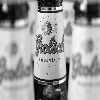beer: (34, 2, 70, 100)
